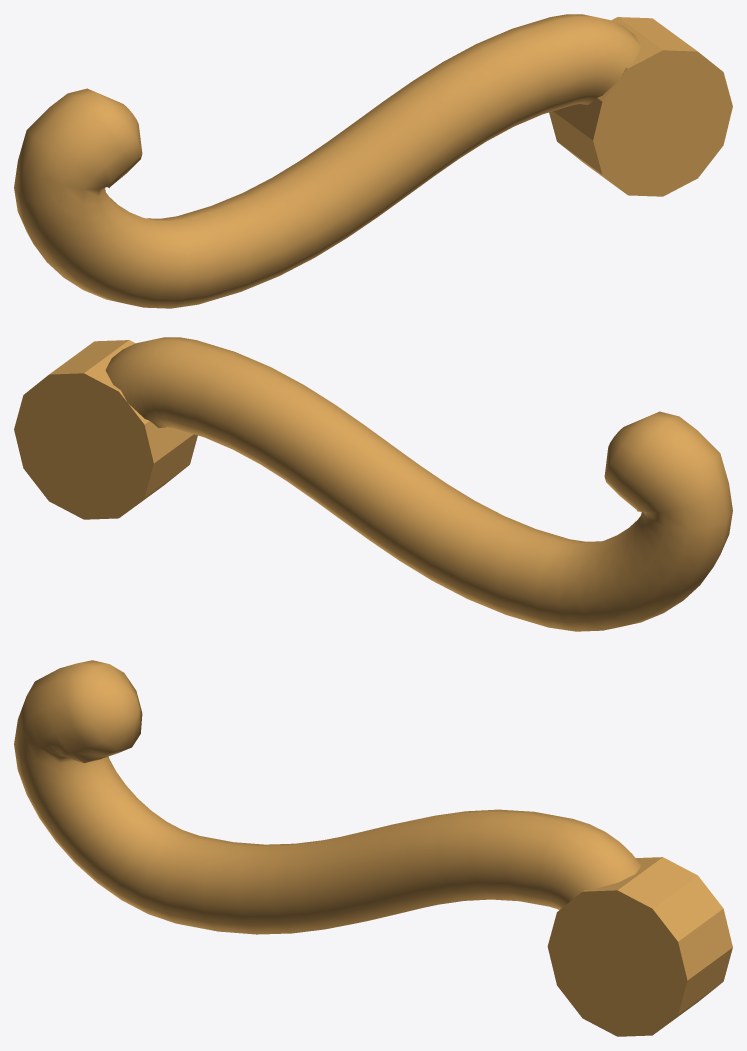
File: tokendoorhandle.gltf
3 views of the same model, one above another, from view 1: azimuth 30°, elevation 25°; view 2: azimuth 150°, elevation 25°; view 3: azimuth 330°, elevation 25° (orthographic).
Visible parts, largest first — view 1: door-handle; view 2: door-handle; view 3: door-handle.
Part boxes in pixels (x1,y1,x2,y2): door-handle: (14,14,732,308); door-handle: (14,337,732,631); door-handle: (14,660,732,1036).
Size of the model in its own units: 0.253 by 0.0811 by 0.0325.
